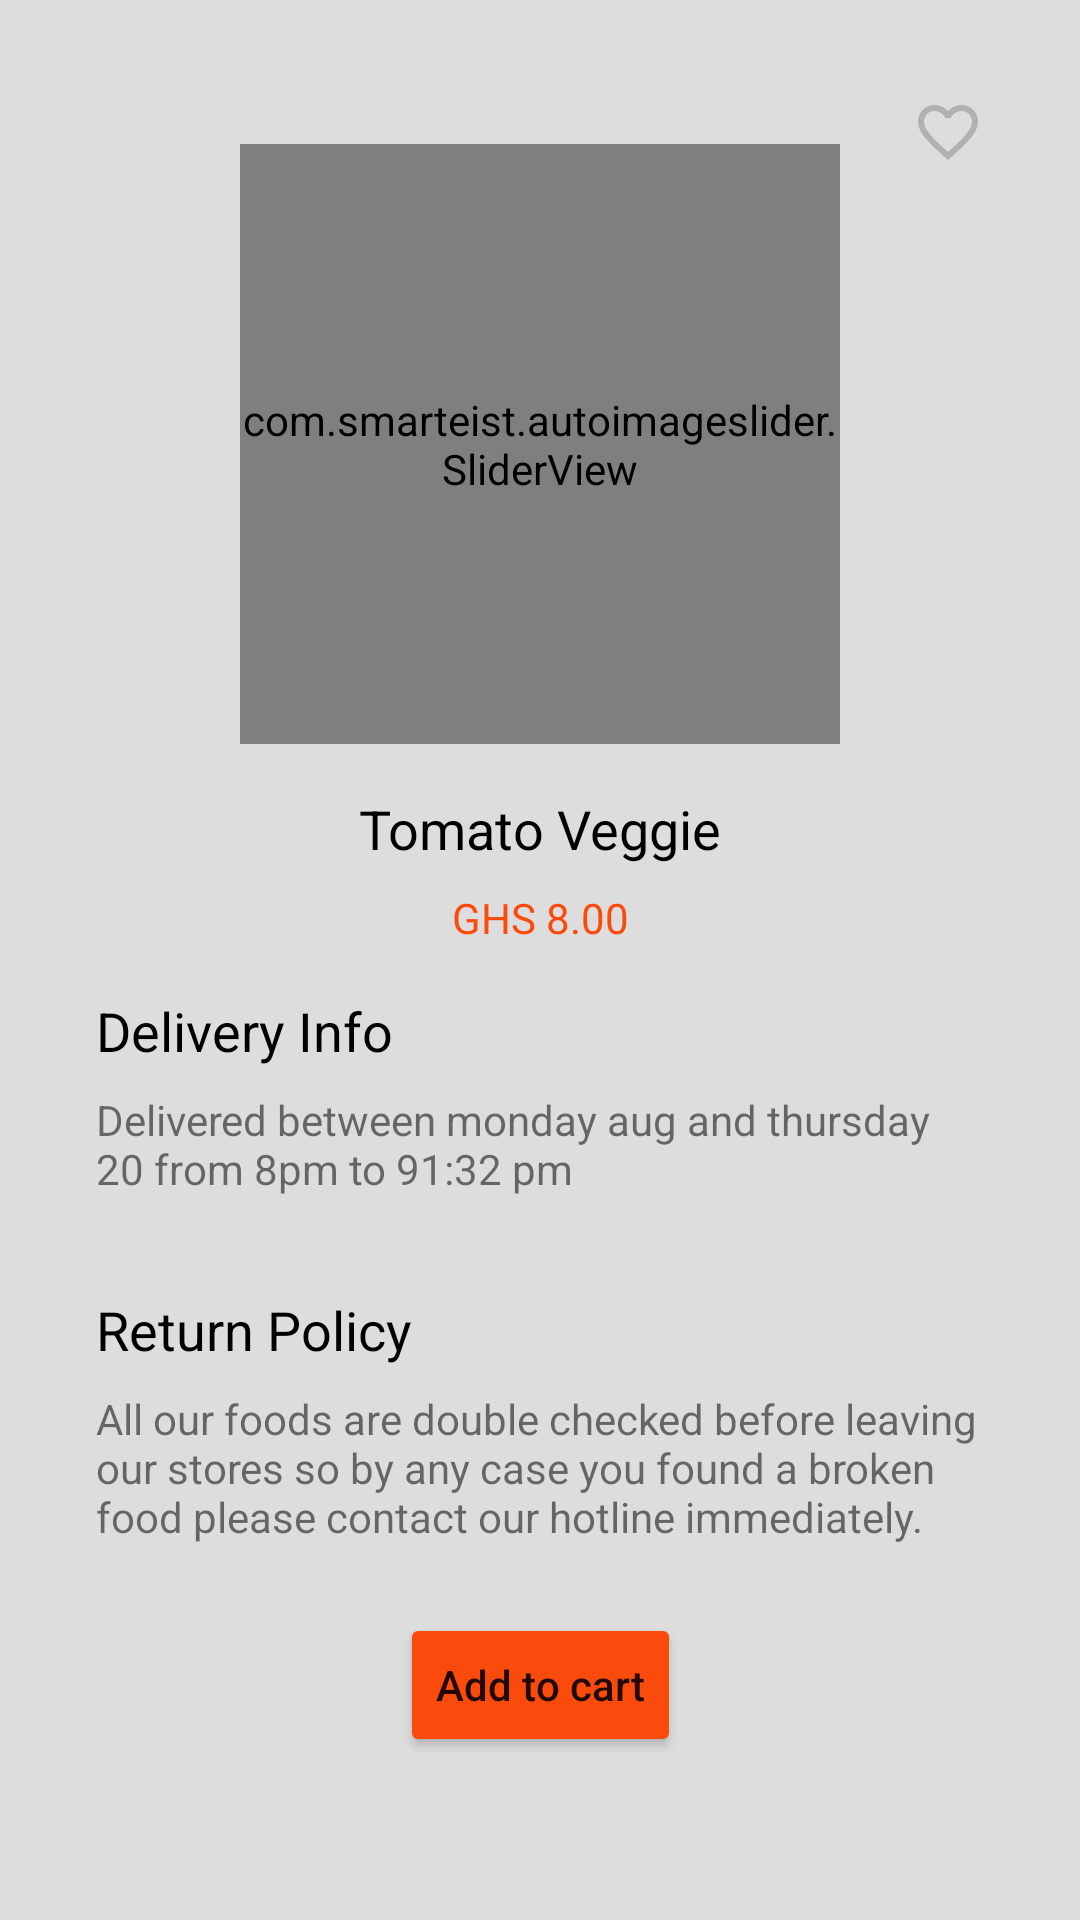

Point at icon controls on the screen. Image size 1080 × 1920, points as (x=x, y=y).
favorite: (x=948, y=132)
